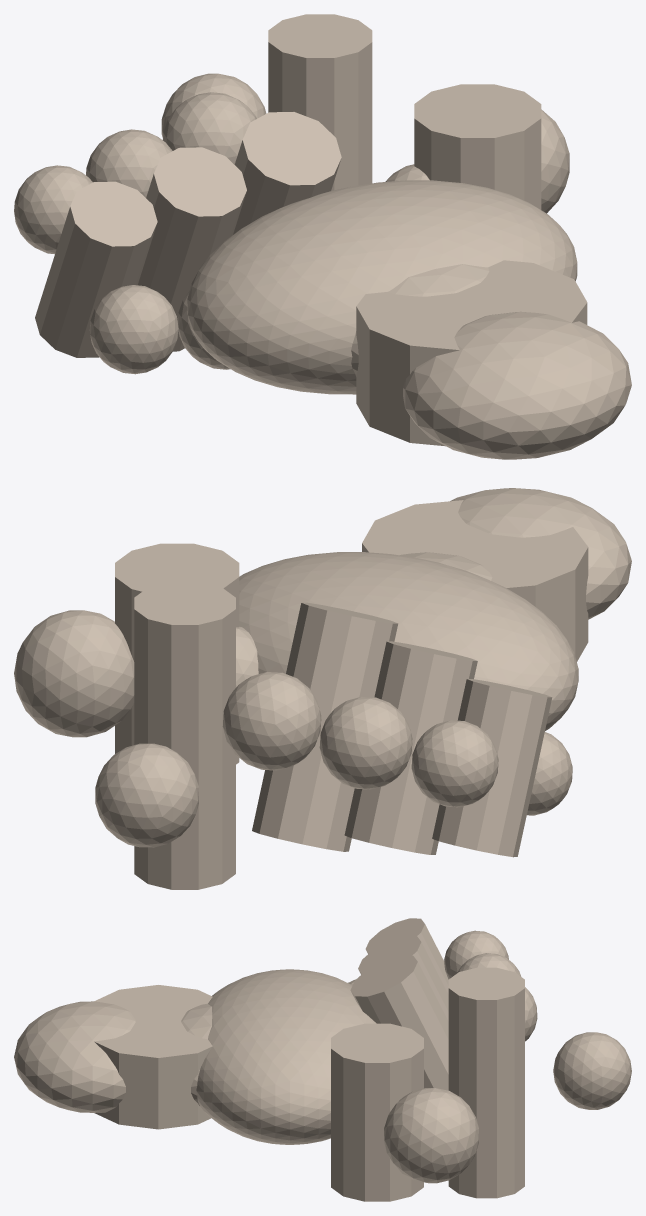
The model's file is tool_hand.glb.
3 renders of one model, top to bottom at view 1: azimuth 30°, elevation 25°; view 2: azimuth 150°, elevation 25°; view 3: azimuth 270°, elevation 25°, orthographic. The views are drawn at different scales.
Parts seen in each view (by area): view 1: world; view 2: world; view 3: world.
Boxes of the visible parts, <box> form: world: <box>14,14,631,459</box>; world: <box>14,488,631,889</box>; world: <box>14,918,631,1201</box>.
Bounding box in the file's own units: 0.0987 × 0.05 × 0.1411.
